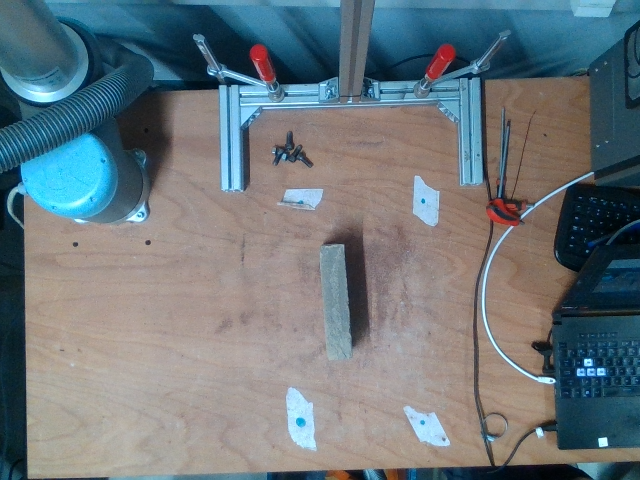brick-side: (318, 243, 353, 357)
